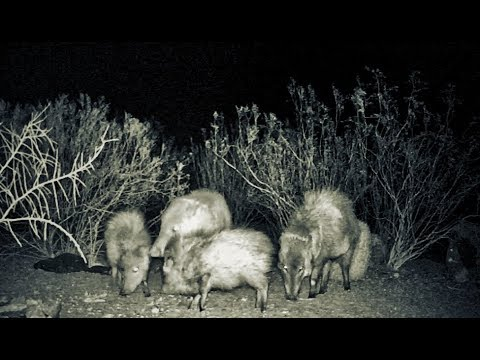javelina: (275, 172, 369, 302), (160, 222, 282, 311), (148, 178, 234, 278), (92, 192, 159, 302)
